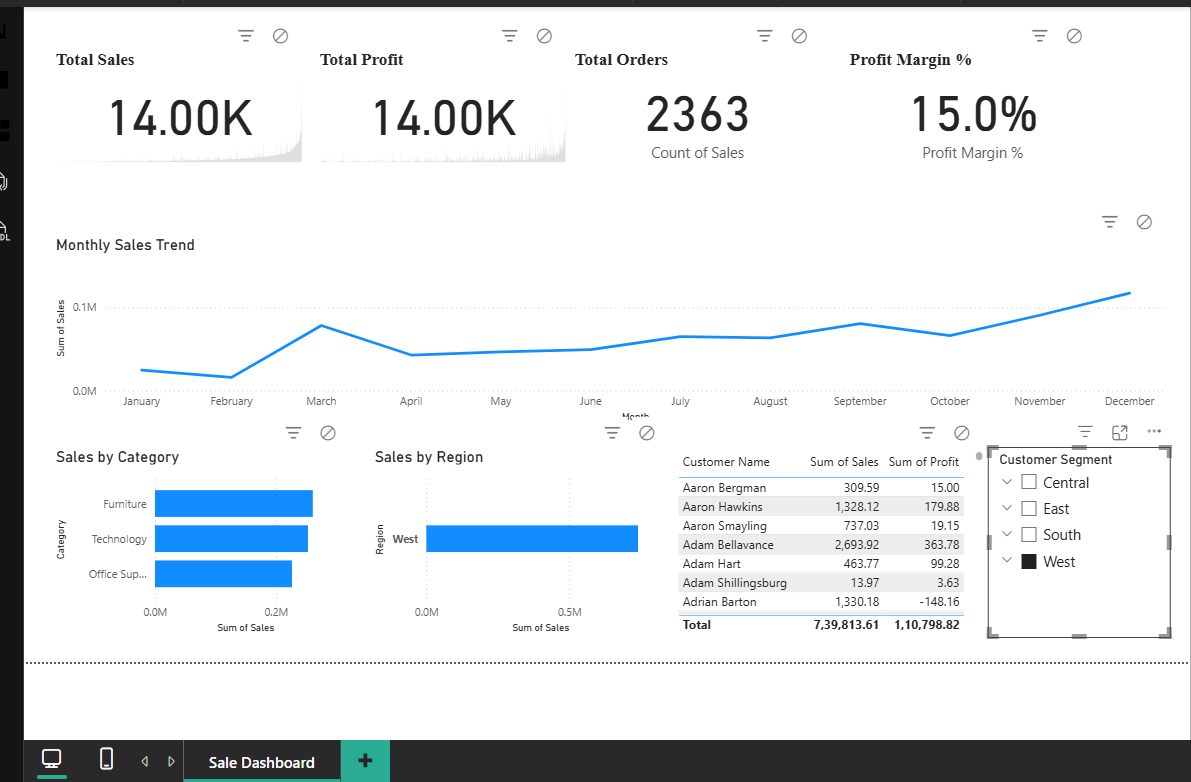

The dashboard page shown, as its layout file describes it:
{"tool":"powerbi","page":{"name":"Sale Dashboard","canvas":[1280,720],"ordinal":0},"visuals":[{"type":"kpi","title":"Total Sales","fields":{"Indicator":["Sum(Orders.Sales)"],"TrendLine":["Orders.Sales"]},"box":[30.2,46.7,279.9,129],"z":0},{"type":"kpi","title":"Total Profit","fields":{"Indicator":["Sum(Orders.Sales)"],"TrendLine":["Orders.Profit"]},"box":[319.7,46.7,279.9,129],"z":1000},{"type":"card","title":"Total Orders","fields":{"Values":["Count(Orders.Sales)"]},"box":[599.7,46.7,279.9,129],"z":2000},{"type":"card","title":"Profit Margin %","fields":{"Values":["Orders.Profit Margin %"]},"box":[901.5,46.7,279.9,129],"z":3000},{"type":"lineChart","title":"Monthly Sales Trend","fields":{"Category":["Orders.Order Date.Variation.Date Hierarchy.Month"],"Y":["Sum(Orders.Sales)"]},"box":[30.2,251.1,1228.1,209.9],"z":4000},{"type":"clusteredBarChart","title":"Sales by Category","fields":{"Category":["Orders.Category"],"Y":["Sum(Orders.Sales)"]},"box":[30.2,483,332.1,209.9],"z":5000},{"type":"clusteredBarChart","title":"Sales by Region","fields":{"Category":["Orders.Region"],"Y":["Sum(Orders.Sales)"]},"box":[380.1,483,332.1,209.9],"z":5001},{"type":"tableEx","fields":{"Values":["Orders.Customer Name","Sum(Orders.Sales)","Sum(Orders.Profit)"]},"box":[712.2,483,345.8,209.9],"z":5002},{"type":"slicer","fields":{"Values":["Orders.Region","Orders.Category","Orders.Segment"]},"box":[1058,483,200,210],"z":5003}]}

Visuals, with their boxes on the page's 1280x720 design canvas (x1, y1, x2, y2). These are canvas units, not pixel positions in the 1191x782 screenshot, which may show the page scaled, cropped or inside an application window:
"Total Sales" kpi: crop(30, 47, 310, 176)
"Total Profit" kpi: crop(320, 47, 600, 176)
"Total Orders" card: crop(600, 47, 880, 176)
"Profit Margin %" card: crop(902, 47, 1181, 176)
"Monthly Sales Trend" lineChart: crop(30, 251, 1258, 461)
"Sales by Category" clusteredBarChart: crop(30, 483, 362, 693)
"Sales by Region" clusteredBarChart: crop(380, 483, 712, 693)
tableEx - Orders.Customer Name x Sum(Orders.Sales): crop(712, 483, 1058, 693)
slicer - Orders.Region x Orders.Category: crop(1058, 483, 1258, 693)
